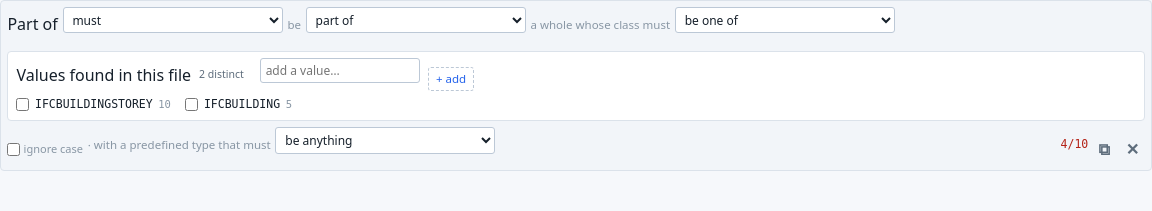
PartOfRow — touched gating › shows no error for an empty enumeration until the row is touched
This screenshot has width=1152, height=211.
Expected: the text "Tick at least one value" is not shown
Click the dropdown named "Relationship": click(416, 20) [306,7,526,33]
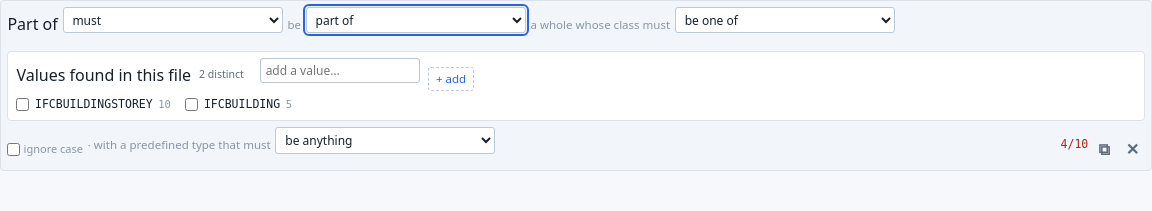
Press Tab
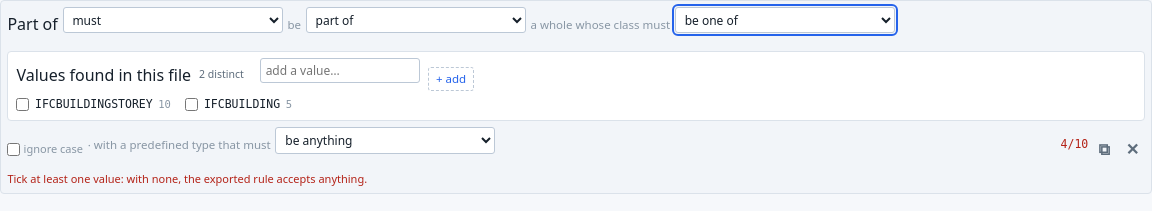
Now the text "Tick at least one value" is shown, box [7,171,367,186]
